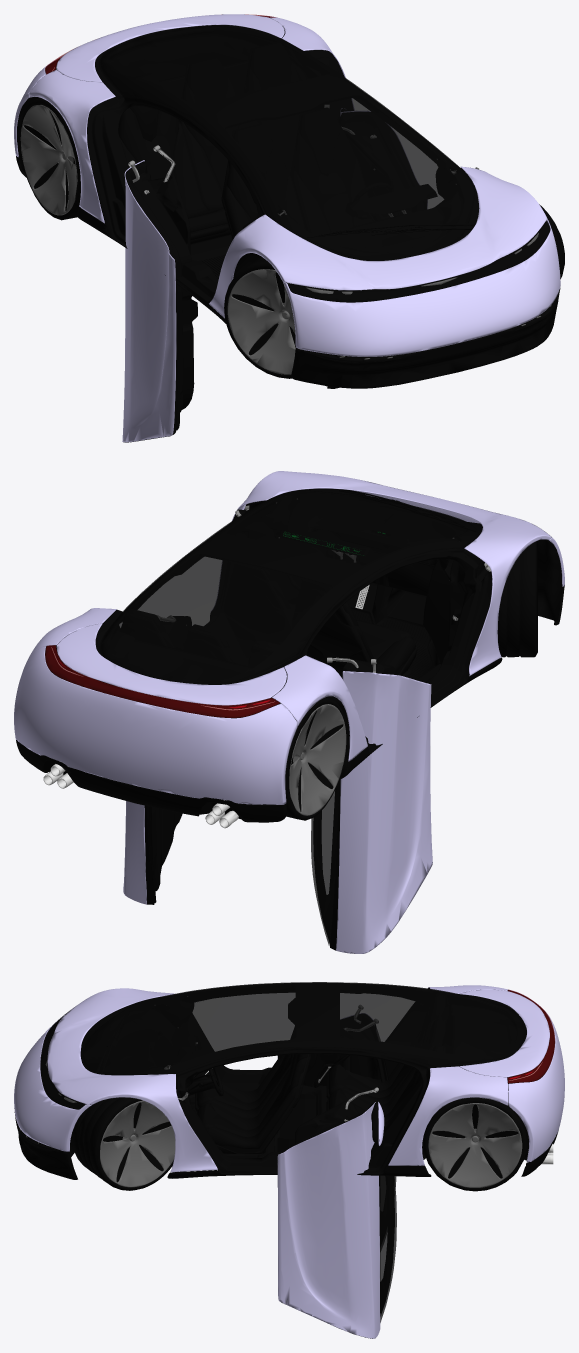
The picture shows the model from 3 angles, top to bottom: view 1: azimuth 30°, elevation 25°; view 2: azimuth 150°, elevation 25°; view 3: azimuth 270°, elevation 25°; orthographic projection. The views are drawn at different scales.
Visible parts, largest first — view 1: Cube_silver_0, Cube.026_plastic_smooth_0, Cube.001_glass_0, Object_244, Cube.045_pattern_4_0, WheelCollection.001|Plane|Dupli|_Material.001_0, Cube.003_Material.007_0, Cube.015_Material.006_0, WheelCollection.001|Plane.001|Dupli|1_Material.002_0, WheelCollection.001|Plane.002|Dupli|3_Material.003_0, Cylinder.115_Material.031_0, Cube.106_wheel_well_0; view 2: Cube_silver_0, Cube.026_plastic_smooth_0, Cube.001_glass_0, Object_244, WheelCollection.001|Plane.001|Dupli|1_Material.002_0, WheelCollection.001|Plane|Dupli|_Material.001_0, Cube.045_pattern_4_0, Cube.005_Material.010_0, Cube.015_Material.006_0, Cube.106_wheel_well_0, Cube.102_floormats_0, Cylinder_Material.009_0 (+1 smaller); view 3: Cube_silver_0, Cube.026_plastic_smooth_0, Cube.001_glass_0, WheelCollection.001|Plane|Dupli|_Material.001_0, Object_244, Cube.045_pattern_4_0, WheelCollection.001|Plane.001|Dupli|1_Material.002_0, Cube.015_Material.006_0, WheelCollection.001|Plane.002|Dupli|3_Material.003_0, Cube.102_floormats_0, Cube.003_Material.007_0, Cube.005_Material.010_0 (+2 smaller).
Boxes of the visible parts, left/top/right/bottom form: Cube_silver_0: left=14, top=14, right=560, bottom=442; Cube.026_plastic_smooth_0: left=16, top=25, right=560, bottom=442; Cube.001_glass_0: left=100, top=26, right=474, bottom=386; Object_244: left=120, top=42, right=437, bottom=244; Cube.045_pattern_4_0: left=118, top=62, right=355, bottom=239; WheelCollection.001|Plane|Dupli|_Material.001_0: left=20, top=105, right=295, bottom=374; Cube.003_Material.007_0: left=289, top=221, right=559, bottom=362; Cube.015_Material.006_0: left=46, top=17, right=555, bottom=361; WheelCollection.001|Plane.001|Dupli|1_Material.002_0: left=20, top=98, right=564, bottom=378; WheelCollection.001|Plane.002|Dupli|3_Material.003_0: left=24, top=105, right=295, bottom=355; Cylinder.115_Material.031_0: left=317, top=223, right=475, bottom=236; Cube.106_wheel_well_0: left=17, top=97, right=260, bottom=277; Cube_silver_0: left=14, top=471, right=564, bottom=953; Cube.026_plastic_smooth_0: left=16, top=488, right=564, bottom=953; Cube.001_glass_0: left=101, top=490, right=478, bottom=945; Object_244: left=123, top=528, right=417, bottom=675; WheelCollection.001|Plane.001|Dupli|1_Material.002_0: left=285, top=540, right=537, bottom=820; WheelCollection.001|Plane|Dupli|_Material.001_0: left=289, top=704, right=346, bottom=815; Cube.045_pattern_4_0: left=120, top=573, right=413, bottom=666; Cube.005_Material.010_0: left=45, top=645, right=279, bottom=717; Cube.015_Material.006_0: left=46, top=646, right=279, bottom=716; Cube.106_wheel_well_0: left=244, top=503, right=562, bottom=804; Cube.102_floormats_0: left=236, top=607, right=434, bottom=680; Cylinder_Material.009_0: left=43, top=764, right=238, bottom=828; Cube_silver_0: left=14, top=985, right=564, bottom=1338; Cube.026_plastic_smooth_0: left=14, top=983, right=558, bottom=1338; Cube.001_glass_0: left=83, top=982, right=524, bottom=1322; WheelCollection.001|Plane|Dupli|_Material.001_0: left=100, top=1100, right=522, bottom=1187; Object_244: left=172, top=993, right=445, bottom=1153; Cube.045_pattern_4_0: left=193, top=1009, right=441, bottom=1137; WheelCollection.001|Plane.001|Dupli|1_Material.002_0: left=72, top=1097, right=526, bottom=1191; Cube.015_Material.006_0: left=18, top=991, right=554, bottom=1150; WheelCollection.001|Plane.002|Dupli|3_Material.003_0: left=103, top=1102, right=518, bottom=1187; Cube.102_floormats_0: left=189, top=1091, right=318, bottom=1158; Cube.003_Material.007_0: left=16, top=1010, right=84, bottom=1151; Cube.005_Material.010_0: left=507, top=989, right=555, bottom=1083.
Size of the model in its own units: 2.5 by 2.65 by 4.69.
